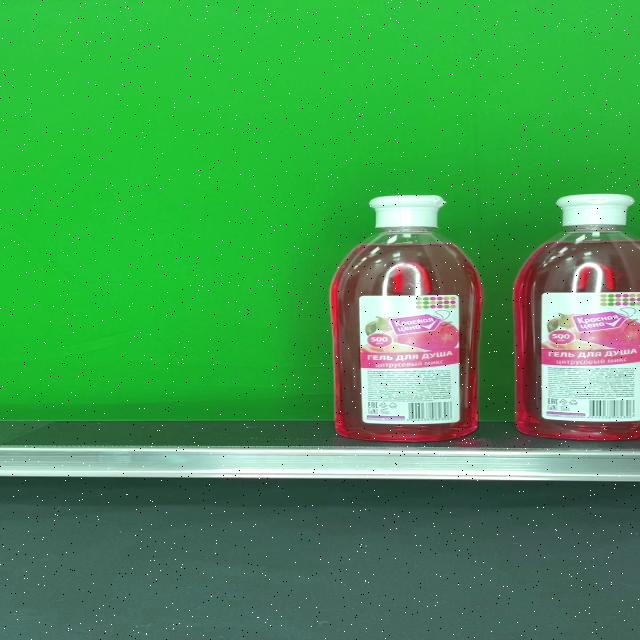Bottle: (332, 194, 482, 442), (511, 193, 640, 441)
Cap: (369, 195, 447, 229), (554, 194, 636, 226)
